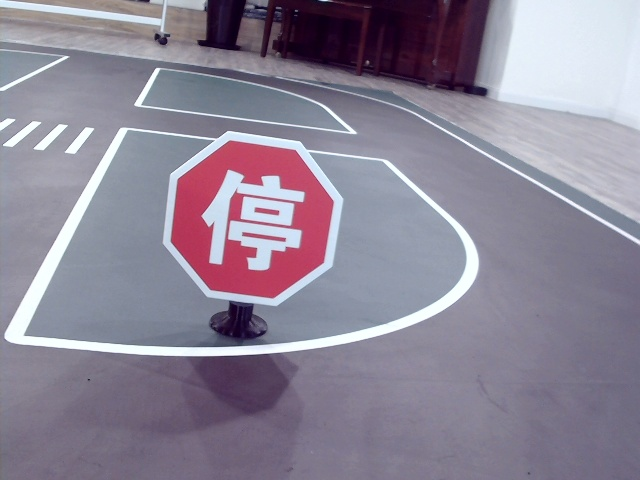stop: (201, 164, 299, 268)
